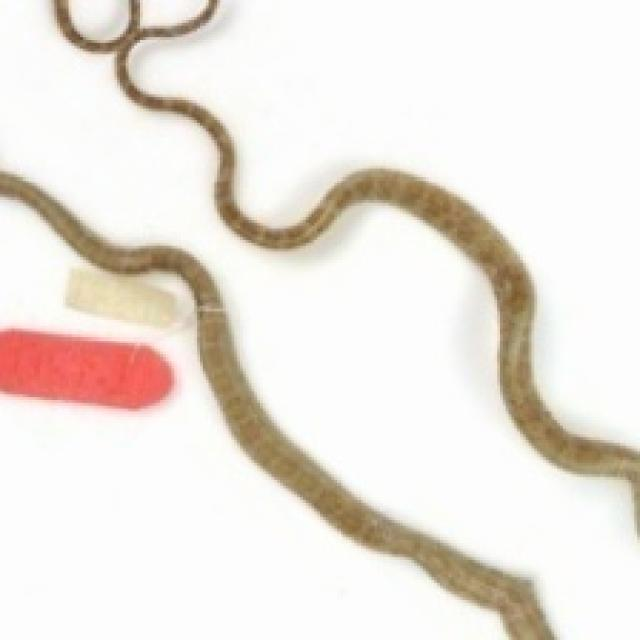mullers wolf snake: (0, 0, 637, 637), (131, 0, 637, 446), (0, 197, 503, 637)
